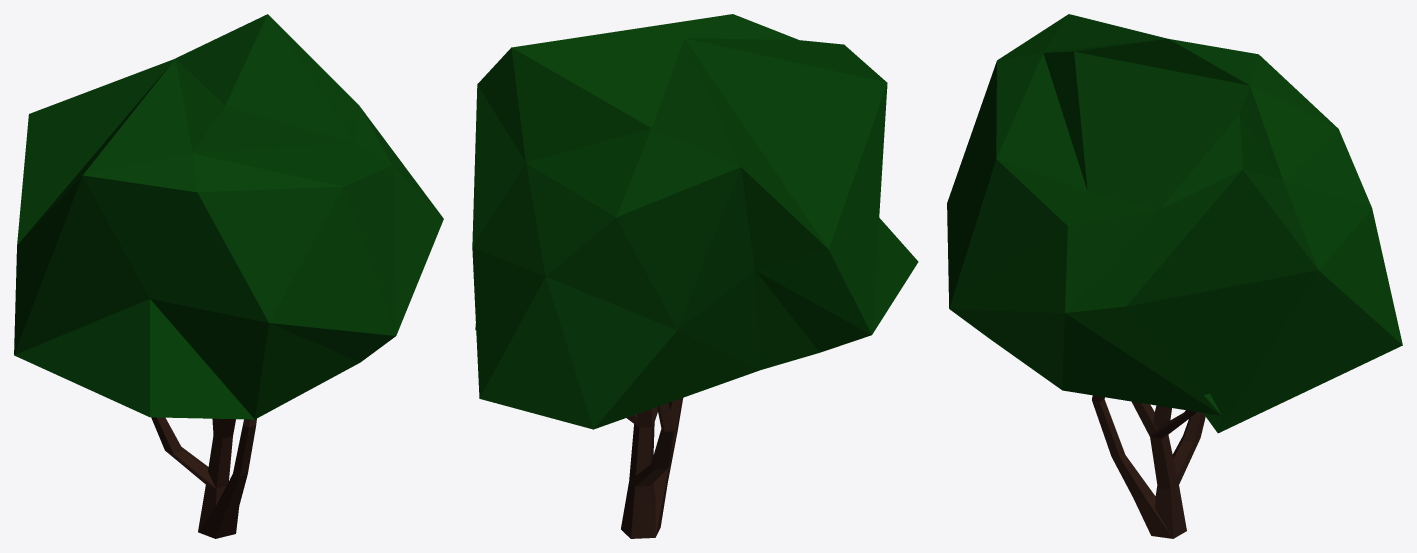
File: Bush.fbx
3 renders of one model, left to right at view 1: azimuth 30°, elevation 25°; view 2: azimuth 150°, elevation 25°; view 3: azimuth 270°, elevation 25°, orthographic. The views are drawn at different scales.
Visible parts, largest first — view 1: Bush1; view 2: Bush1; view 3: Bush1.
Boxes of the visible parts, x1,y1,x2,y2 form: Bush1: [14, 14, 443, 538]; Bush1: [472, 14, 918, 538]; Bush1: [947, 14, 1402, 538].
Size of the model in its own units: 195 by 233 by 203.
